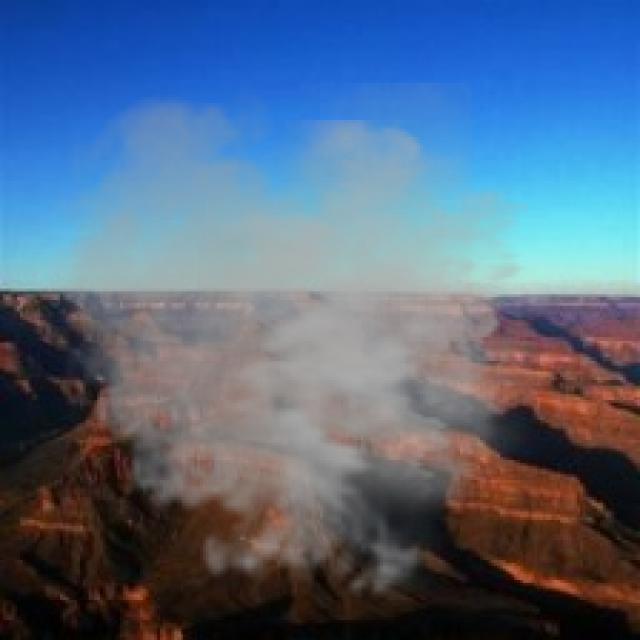smoke: (31, 83, 566, 614)
